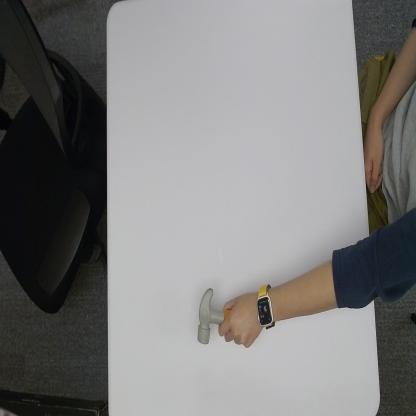Arm: (275, 238, 372, 322)
Hammer: (198, 286, 232, 345)
Hand: (218, 295, 259, 347)
